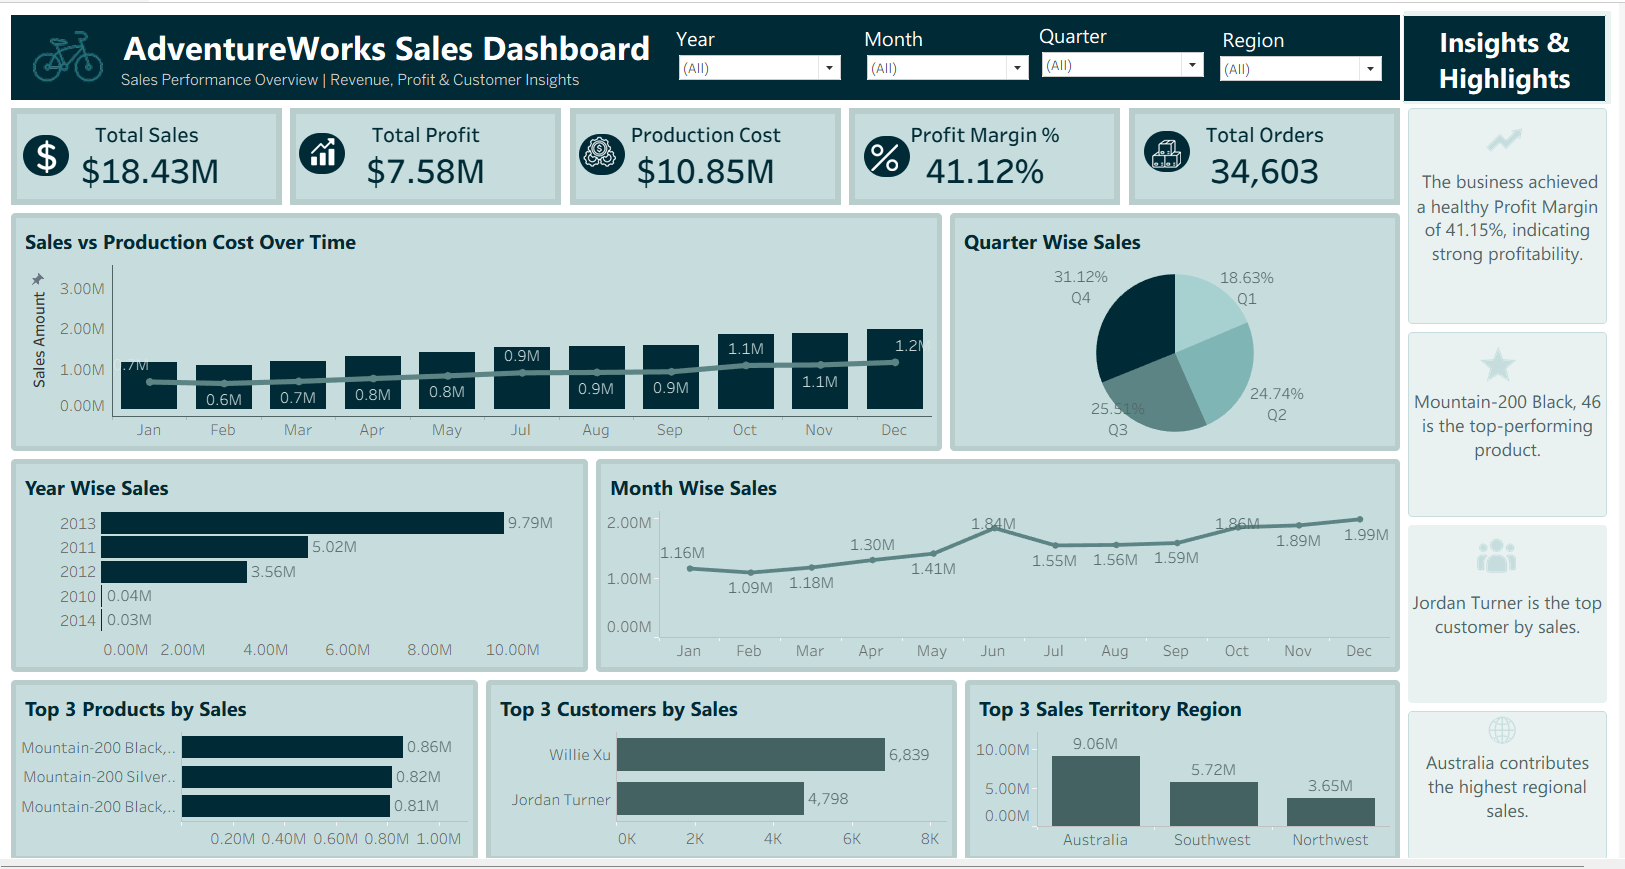

The dashboard page shown, as its layout file describes it:
{"tool":"tableau","page":{"name":"Dashboard 1","canvas":[1620,870],"ordinal":0},"visuals":[{"type":"worksheet","title":"filter","mark":"Automatic","box":[1415,6,186,93]},{"type":"text","box":[8,8,1397,93.2]},{"type":"text","box":[1404,12,203,87]},{"type":"image","param":"Image/transport.png","box":[32.4,17,96.1,74]},{"type":"filter","title":"filter","param":"[federated.1bww06m1w2ix9o17jry550taavgd].[qr:Calculation_0143507204837378:ok]","box":[1040,18,168,67]},{"type":"filter","title":"filter","param":"[federated.1bww06m1w2ix9o17jry550taavgd].[yr:Calculation_0143507204837378:ok]","box":[677,21,168,67]},{"type":"filter","title":"filter","param":"[federated.1bww06m1w2ix9o17jry550taavgd].[mn:Calculation_0143507204837378:ok]","box":[865,21,168,67]},{"type":"filter","title":"filter","param":"[federated.1bww06m1w2ix9o17jry550taavgd].[none:SalesTerritoryRegion:nk]","box":[1218,22,168,68]},{"type":"text","box":[1405,101,207,224]},{"type":"worksheet","title":"KPI - Total Sales","mark":"Automatic","box":[8,101.2,279.4,104.8]},{"type":"worksheet","title":"KPI - Profit","mark":"Automatic","box":[287.4,101.2,279.4,104.8]},{"type":"worksheet","title":"KPI - Production Cost","mark":"Automatic","box":[566.8,101.2,279.4,104.8]},{"type":"worksheet","title":"KPI - Profit Margin %","mark":"Automatic","box":[846.2,101.2,279.4,104.8]},{"type":"worksheet","title":"KPI - Total Orders","mark":"Automatic","box":[1125.5,101.2,279.4,104.8]},{"type":"image","param":"Image/increase.png","box":[1487,119,54,36]},{"type":"blank","box":[1145,128,46,41]},{"type":"blank","box":[300,130,46,41]},{"type":"blank","box":[580,131,46,41]},{"type":"blank","box":[24,132,46,41]},{"type":"image","param":"Image/operating.png","box":[584,132,48,33]},{"type":"image","param":"Image/profit (2).png","box":[308,133,31,36]},{"type":"blank","box":[865,133,46,41]},{"type":"image","param":"Image/boxes.png","box":[1153.2,136,53.7,29]},{"type":"image","param":"Image/dollar (1).png","box":[28,137,40,33]},{"type":"image","param":"Image/percentage (1).png","box":[872,141,37,27]},{"type":"worksheet","title":"Q11 - Sales vs Production Cost","mark":"Automatic","rows":["Calculation_0143507208433678","Calculation_0143507209605135"],"cols":["Calculation_0143507207561229"],"box":[8,206,939,246]},{"type":"worksheet","title":"Q10 - Quarter Wise Sales","mark":"Pie","box":[947,206,458,246]},{"type":"text","box":[1405,325,207,193]},{"type":"image","param":"Image/star.png","box":[1481,343,48,36]},{"type":"worksheet","title":"Q8 - Year Wise Sales.","mark":"Bar","rows":["Calculation_0143507205709828"],"cols":["Calculation_0143507208433678"],"box":[8,452,585,221]},{"type":"worksheet","title":"Q9 - Month Wise Sales.","mark":"Line","rows":["Calculation_0143507208433678"],"cols":["Calculation_0143507207561229"],"box":[593,452,811.9,221]},{"type":"text","box":[1405,518,207,186]},{"type":"image","param":"Image/customer (2).png","box":[1478,533,56,39]},{"type":"worksheet","title":"Top 3 Products by Sales","mark":"Bar","rows":["EnglishProductName"],"cols":["Calculation_0143507208433678"],"box":[8,673,475,189]},{"type":"worksheet","title":"Top 3 Customers by Sales","mark":"Bar","rows":["Calculation_0143507198902272"],"cols":["Calculation_0143507208433678"],"box":[483,673,479,189]},{"type":"worksheet","title":"Sales Territory Region","mark":"Bar","rows":["Calculation_0143507208433678"],"cols":["SalesTerritoryRegion"],"box":[962,673,443,189]},{"type":"text","box":[1405,704,207,157]},{"type":"image","param":"Image/world (1).png","box":[1484,708,54,38]}]}

Visuals, with their boxes in screenshot pixels (x1, y1, x2, y2), scaled from the page's 1620x870 canvas onto the 1625x869 screenshot:
"filter" worksheet: [1419, 6, 1606, 99]
text: [8, 8, 1409, 101]
text: [1408, 12, 1612, 99]
image: [32, 17, 129, 91]
"filter" filter: [1043, 18, 1212, 85]
"filter" filter: [679, 21, 848, 88]
"filter" filter: [868, 21, 1036, 88]
"filter" filter: [1222, 22, 1390, 90]
text: [1409, 101, 1617, 325]
"KPI - Total Sales" worksheet: [8, 101, 288, 206]
"KPI - Profit" worksheet: [288, 101, 569, 206]
"KPI - Production Cost" worksheet: [569, 101, 849, 206]
"KPI - Profit Margin %" worksheet: [849, 101, 1129, 206]
"KPI - Total Orders" worksheet: [1129, 101, 1409, 206]
image: [1492, 119, 1546, 155]
blank: [1149, 128, 1195, 169]
blank: [301, 130, 347, 171]
blank: [582, 131, 628, 172]
blank: [24, 132, 70, 173]
image: [586, 132, 634, 165]
image: [309, 133, 340, 169]
blank: [868, 133, 914, 174]
image: [1157, 136, 1211, 165]
image: [28, 137, 68, 170]
image: [875, 141, 912, 168]
"Q11 - Sales vs Production Cost" worksheet: [8, 206, 950, 451]
"Q10 - Quarter Wise Sales" worksheet (Pie marks): [950, 206, 1409, 451]
text: [1409, 325, 1617, 517]
image: [1486, 343, 1534, 379]
"Q8 - Year Wise Sales." worksheet (Bar marks): [8, 451, 595, 672]
"Q9 - Month Wise Sales." worksheet (Line marks): [595, 451, 1409, 672]
text: [1409, 517, 1617, 703]
image: [1483, 532, 1539, 571]
"Top 3 Products by Sales" worksheet (Bar marks): [8, 672, 484, 861]
"Top 3 Customers by Sales" worksheet (Bar marks): [484, 672, 965, 861]
"Sales Territory Region" worksheet (Bar marks): [965, 672, 1409, 861]
text: [1409, 703, 1617, 860]
image: [1489, 707, 1543, 745]
